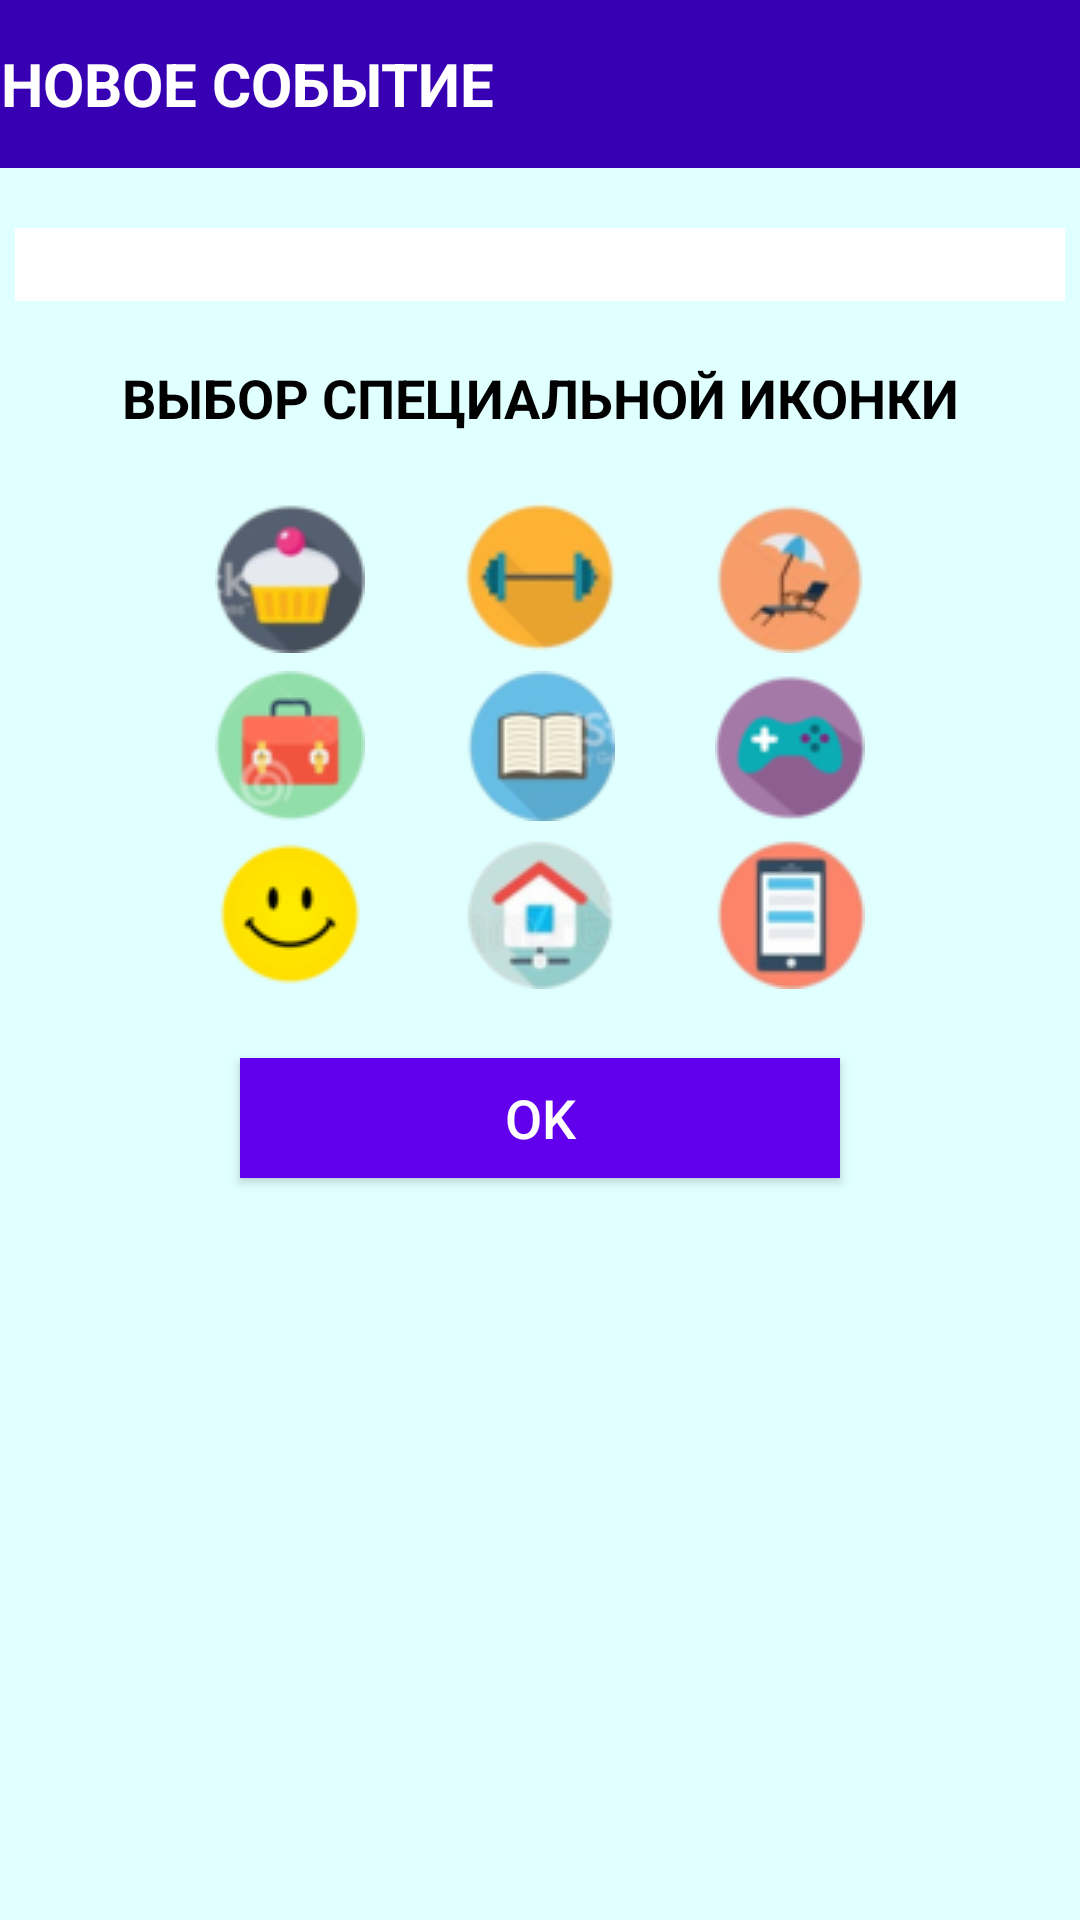

Screen size 1080px×1920px. Icon name, then its box in pixels as {"left": x1, "top": y1, "right": x2, "bottom": y2}:
feel: {"left": 220, "top": 844, "right": 360, "bottom": 984}
food: {"left": 215, "top": 505, "right": 365, "bottom": 653}
game: {"left": 715, "top": 676, "right": 865, "bottom": 819}
home: {"left": 469, "top": 843, "right": 612, "bottom": 989}
job: {"left": 215, "top": 671, "right": 365, "bottom": 819}
phone: {"left": 718, "top": 841, "right": 865, "bottom": 989}
relax: {"left": 718, "top": 506, "right": 863, "bottom": 653}
sport: {"left": 465, "top": 505, "right": 615, "bottom": 650}
study: {"left": 469, "top": 671, "right": 615, "bottom": 821}
